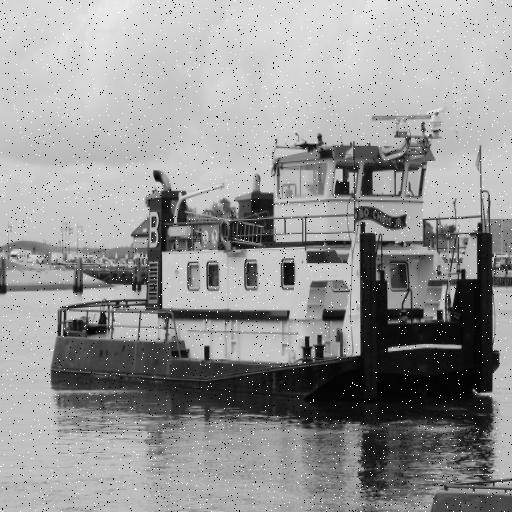tugboat: (49, 105, 503, 404)
